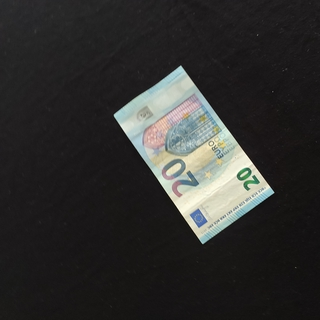20EUROFront: (113, 64, 274, 245)
